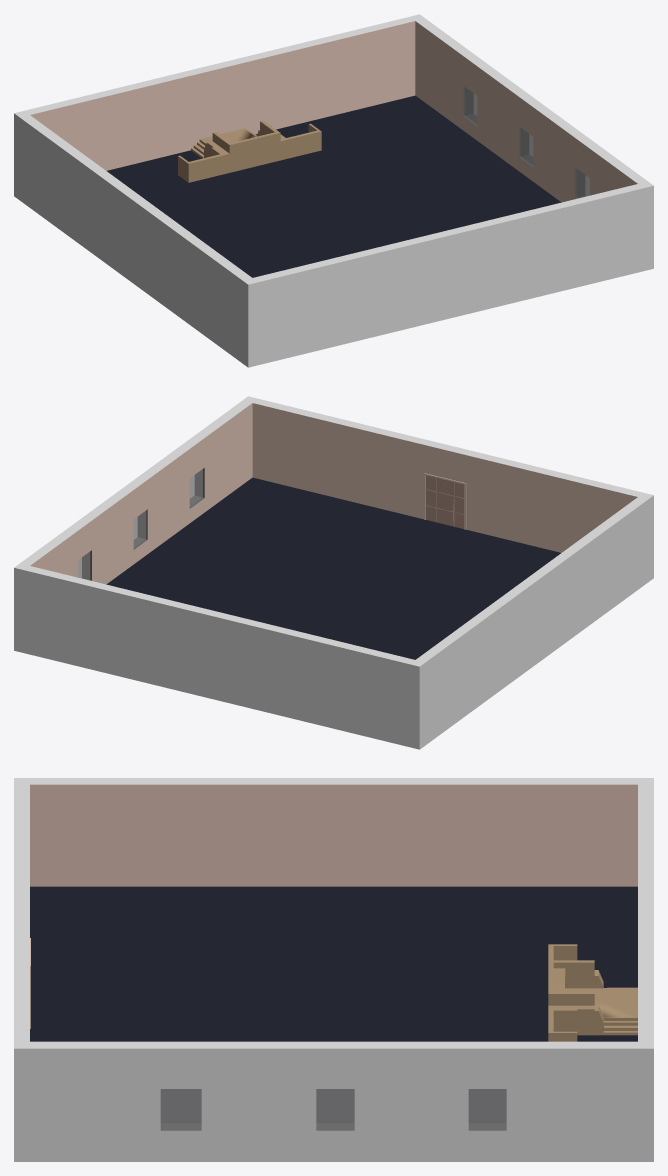
Rendered from CourtRoom3.0.fbx.
3 renders of one model, top to bottom at view 1: azimuth 30°, elevation 25°; view 2: azimuth 150°, elevation 25°; view 3: azimuth 270°, elevation 25°, orthographic. The views are drawn at different scales.
Visible parts, largest first — view 1: Cube, Cube.007; view 2: Cube; view 3: Cube, Cube.007.
Part boxes in pixels (x1,y1,x2,y2): Cube: (14, 14, 653, 367); Cube.007: (178, 120, 321, 182); Cube: (14, 396, 653, 749); Cube: (14, 778, 653, 1161); Cube.007: (548, 944, 637, 1041).
Bounding box in the file's own units: 4989 × 975 × 4989.
